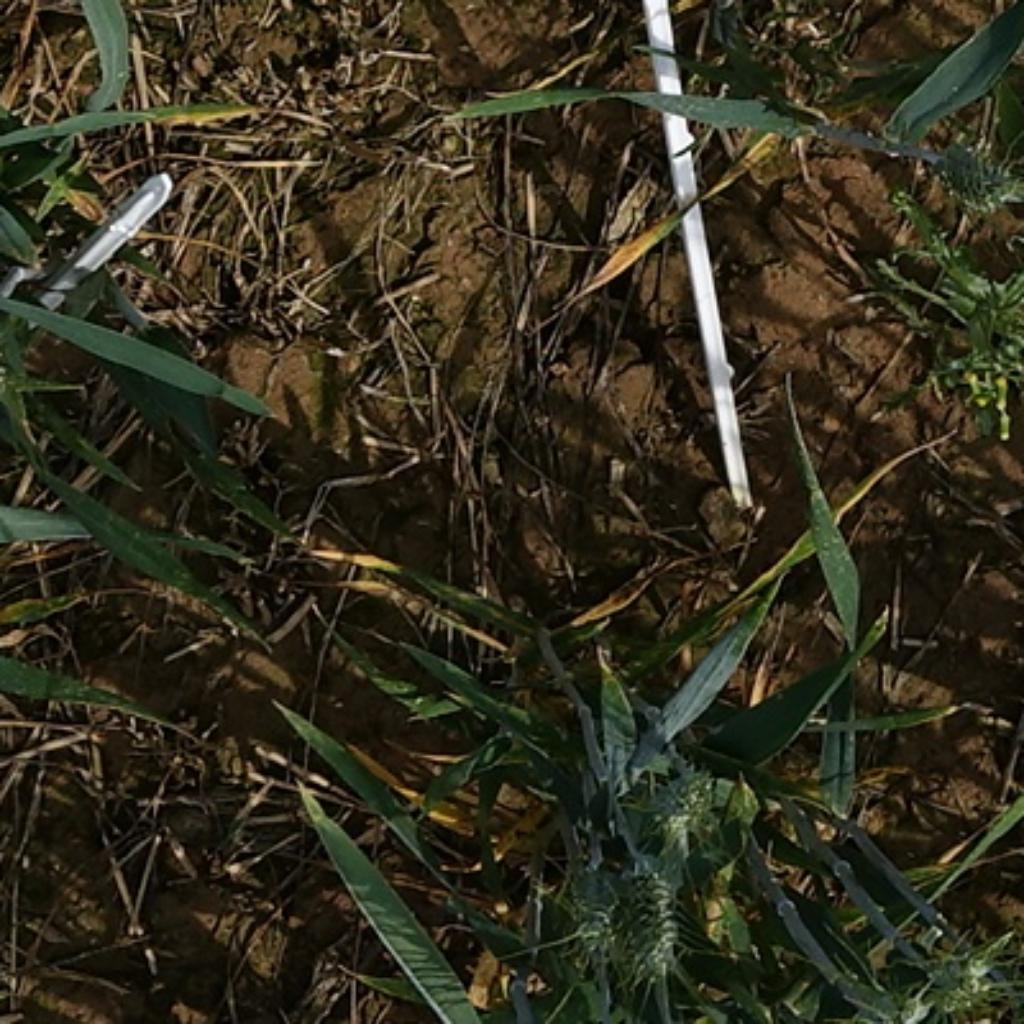0-0: (919, 257, 1024, 396), (609, 867, 693, 983), (632, 758, 729, 850), (923, 147, 1023, 223), (920, 935, 1002, 1024), (560, 901, 634, 960)
